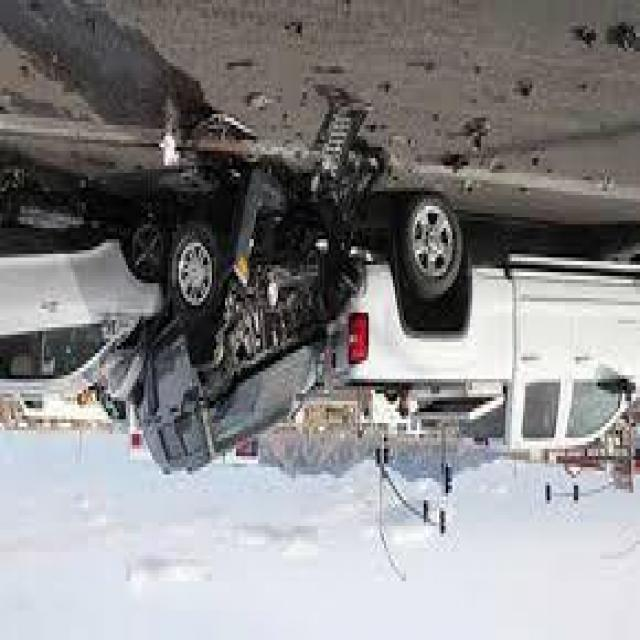severe: (2, 169, 638, 475)
